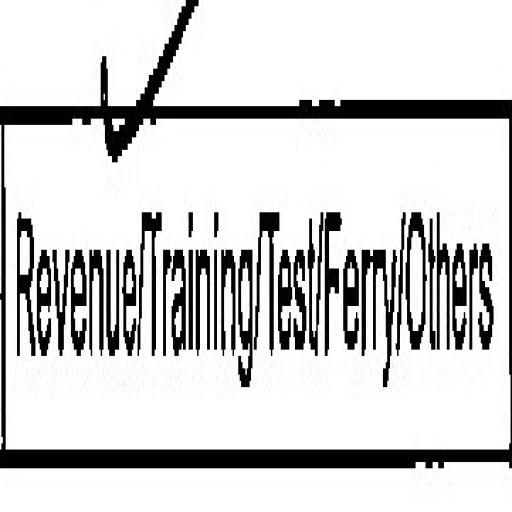check: (0, 0, 139, 487)
